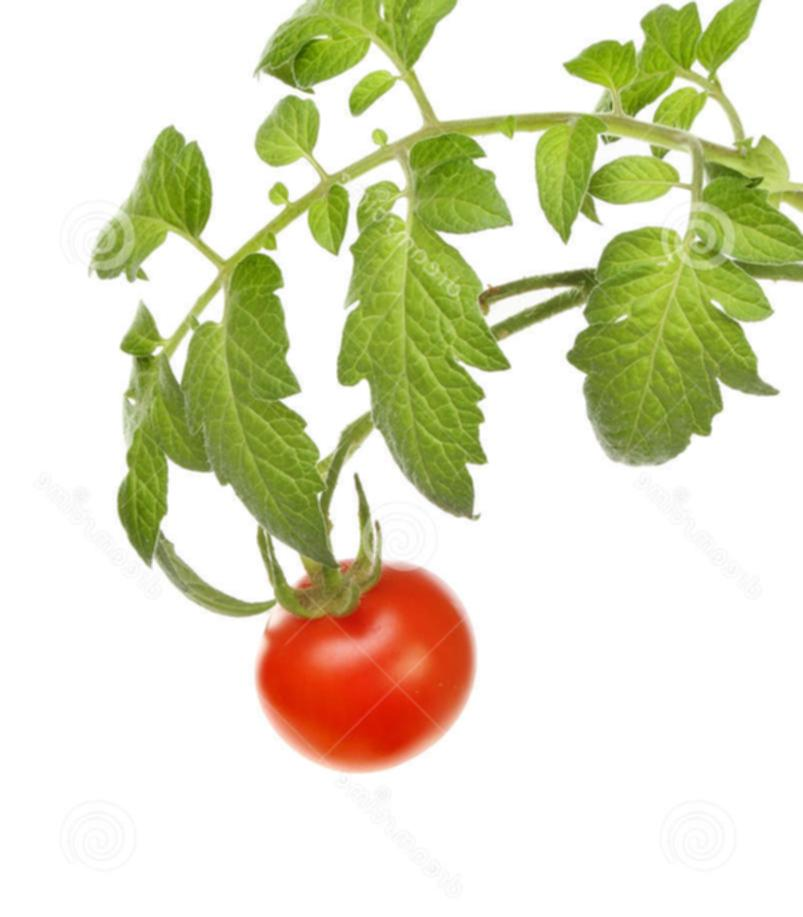Tomato leaf: (315, 103, 521, 537), (549, 195, 795, 516), (145, 194, 324, 634), (525, 103, 602, 250)
